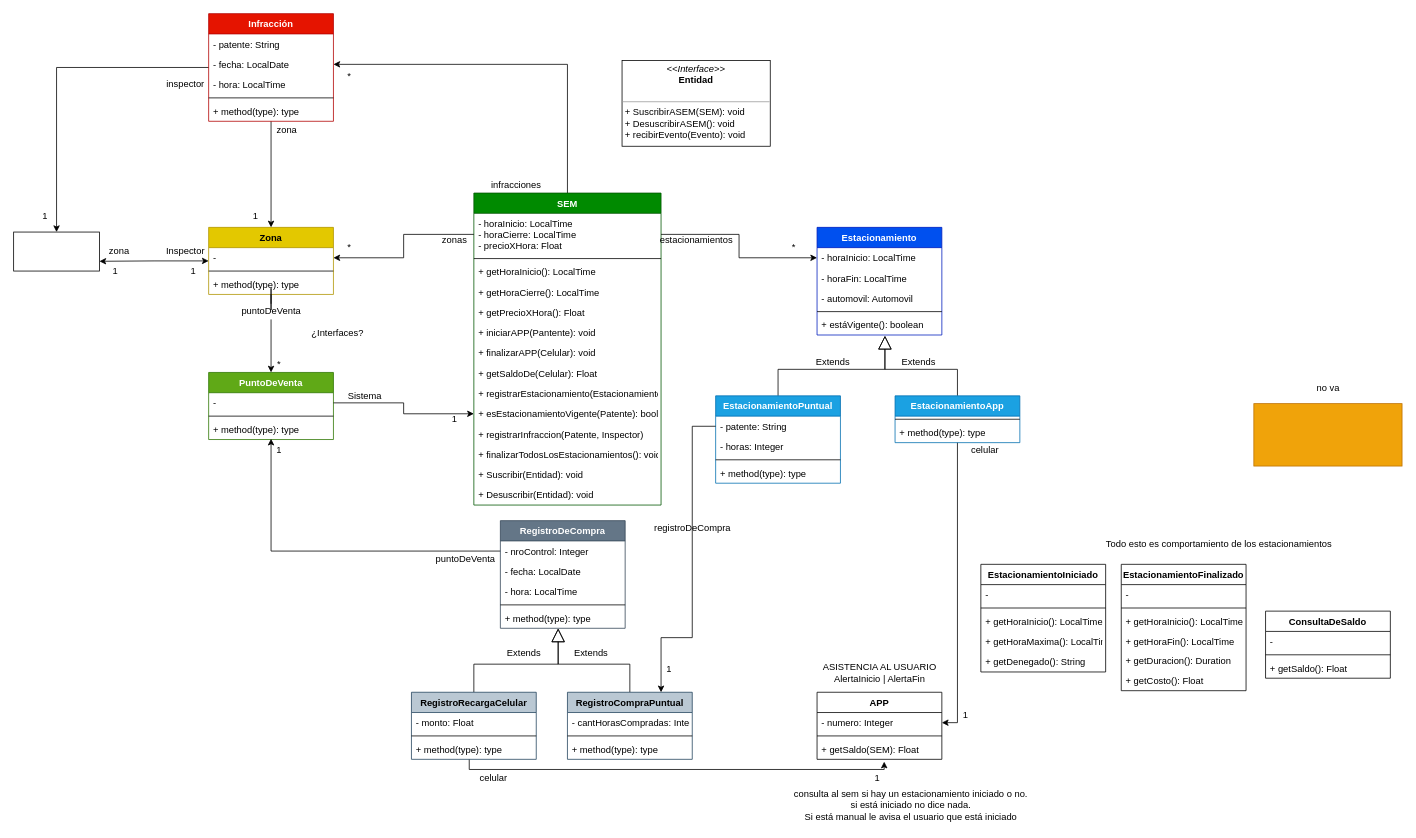
Image size: 1416x838. Some labels were removed from this diagram. Here are the shapes that lost their labels. From the top down, the centre of each, then its label:
At pixel 56 251: "«interface» Inspector".
At pixel 1327 434: "<<Interface>> Evento + lanzarse()".
